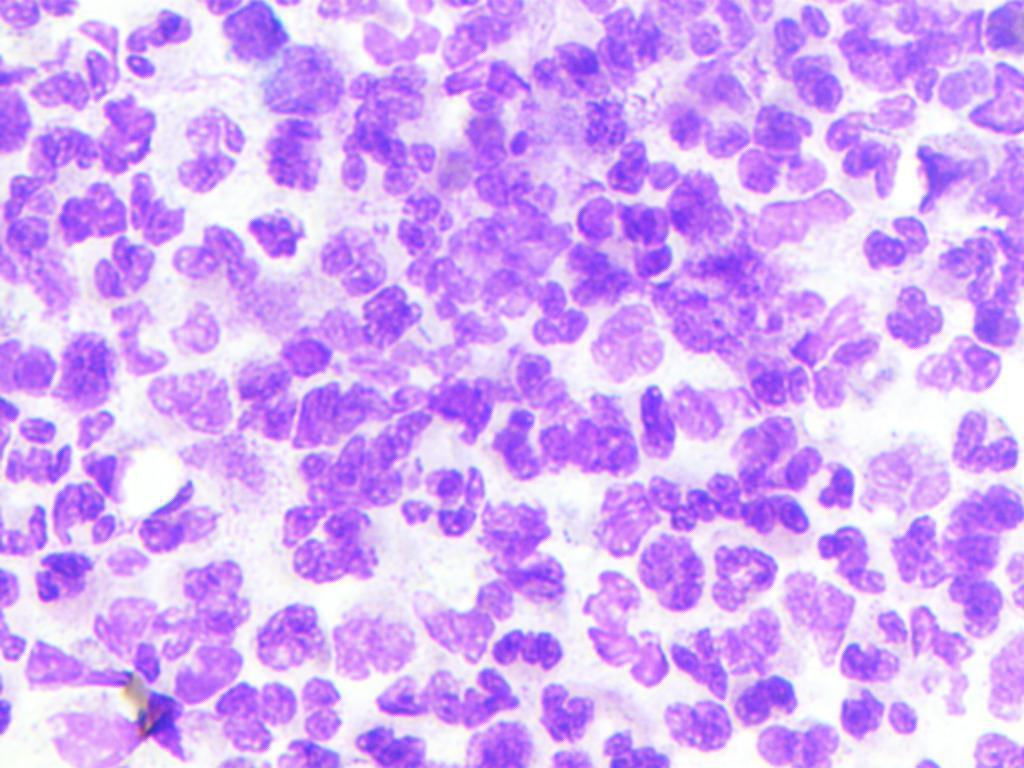artifact: (20, 642, 193, 768)
neutrophil: (597, 409, 867, 578), (100, 549, 268, 706), (420, 200, 586, 351), (703, 287, 876, 427), (901, 468, 1024, 648), (242, 324, 404, 449), (453, 78, 577, 221), (652, 239, 786, 360), (333, 54, 441, 204), (413, 341, 556, 450), (567, 190, 688, 317), (668, 597, 827, 693), (293, 403, 434, 506), (718, 83, 837, 200), (95, 287, 228, 380), (584, 554, 668, 698), (840, 423, 957, 526), (797, 507, 910, 611), (380, 650, 524, 729), (212, 669, 356, 747), (537, 389, 649, 488), (626, 371, 745, 463), (937, 227, 1024, 350), (268, 502, 387, 589), (823, 83, 907, 201), (867, 592, 985, 676), (30, 14, 128, 114), (167, 93, 252, 208), (419, 42, 538, 122), (585, 289, 681, 388), (836, 0, 964, 74), (163, 210, 266, 299), (906, 326, 1013, 411), (67, 406, 162, 501), (129, 470, 225, 564), (653, 82, 758, 167), (628, 518, 716, 617), (936, 42, 1024, 139), (766, 2, 844, 111), (322, 597, 416, 687), (850, 201, 949, 286), (518, 27, 615, 113), (398, 457, 495, 540), (384, 171, 465, 270), (909, 124, 989, 223), (312, 212, 394, 308), (251, 106, 328, 207), (593, 127, 694, 204), (316, 0, 447, 58), (47, 167, 140, 248), (251, 46, 347, 124), (698, 533, 785, 619), (37, 474, 125, 559), (95, 86, 166, 191), (346, 270, 435, 348), (870, 274, 948, 362), (667, 162, 742, 252), (942, 402, 1024, 483), (596, 8, 674, 93), (245, 607, 334, 677), (835, 678, 925, 744), (54, 330, 124, 413), (16, 116, 101, 184), (82, 231, 161, 304), (444, 716, 547, 768), (747, 718, 852, 768), (677, 0, 764, 60), (488, 618, 570, 681), (128, 14, 207, 79), (653, 689, 737, 750), (237, 203, 312, 270), (350, 714, 440, 768), (727, 671, 802, 729), (527, 680, 601, 738), (32, 549, 101, 610), (836, 629, 906, 688), (590, 730, 676, 768), (268, 737, 370, 768)
